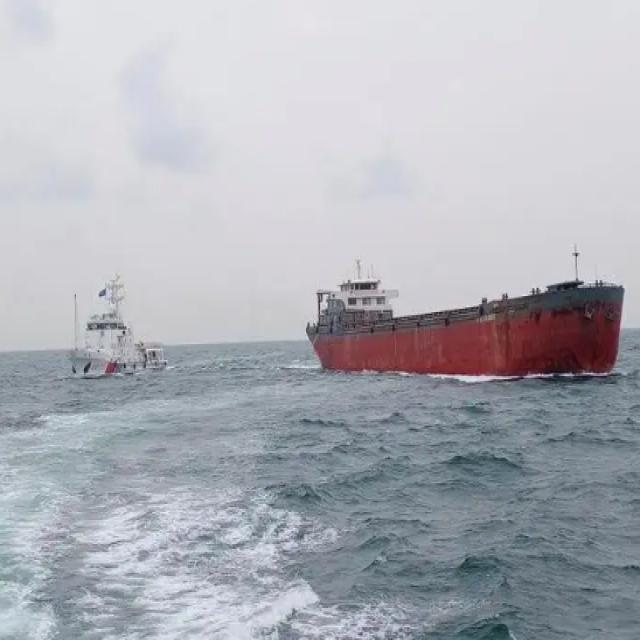cargoship: (306, 260, 628, 378)
houseboat: (58, 280, 168, 383)
